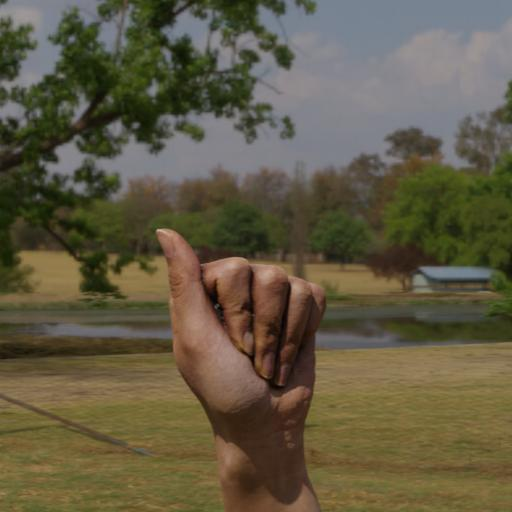A: (145, 207, 340, 512)
